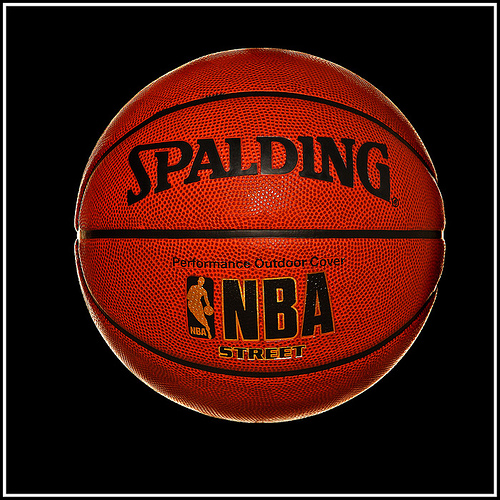basketball: (74, 47, 446, 425)
